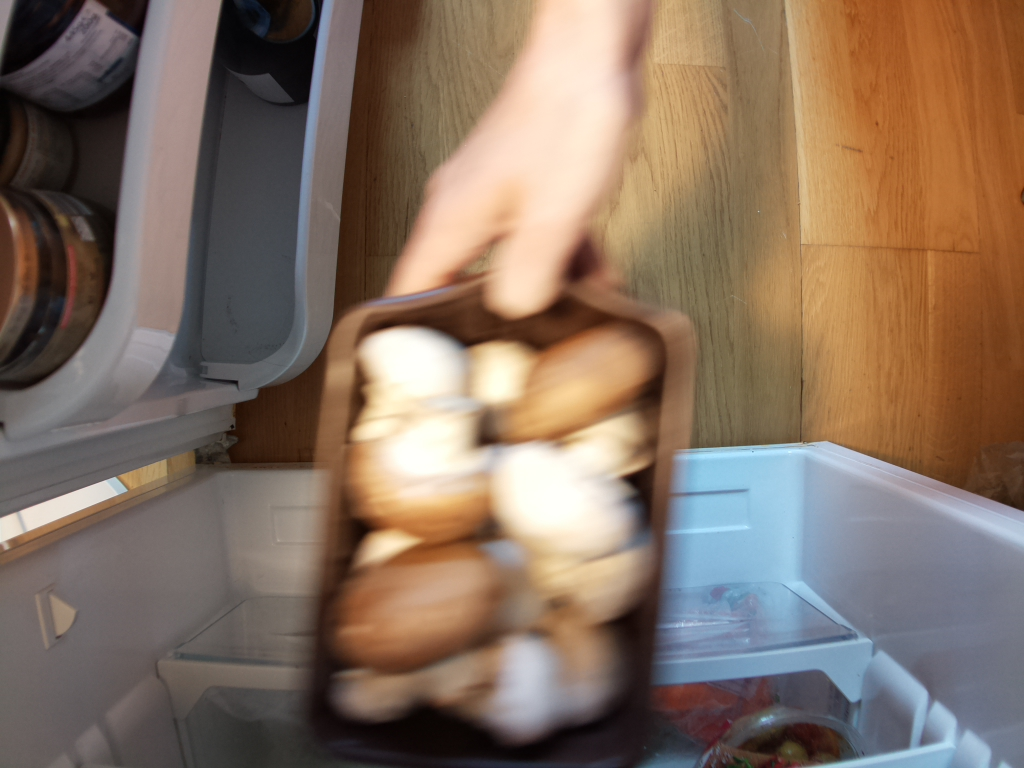mushrooms: (308, 311, 676, 756)
